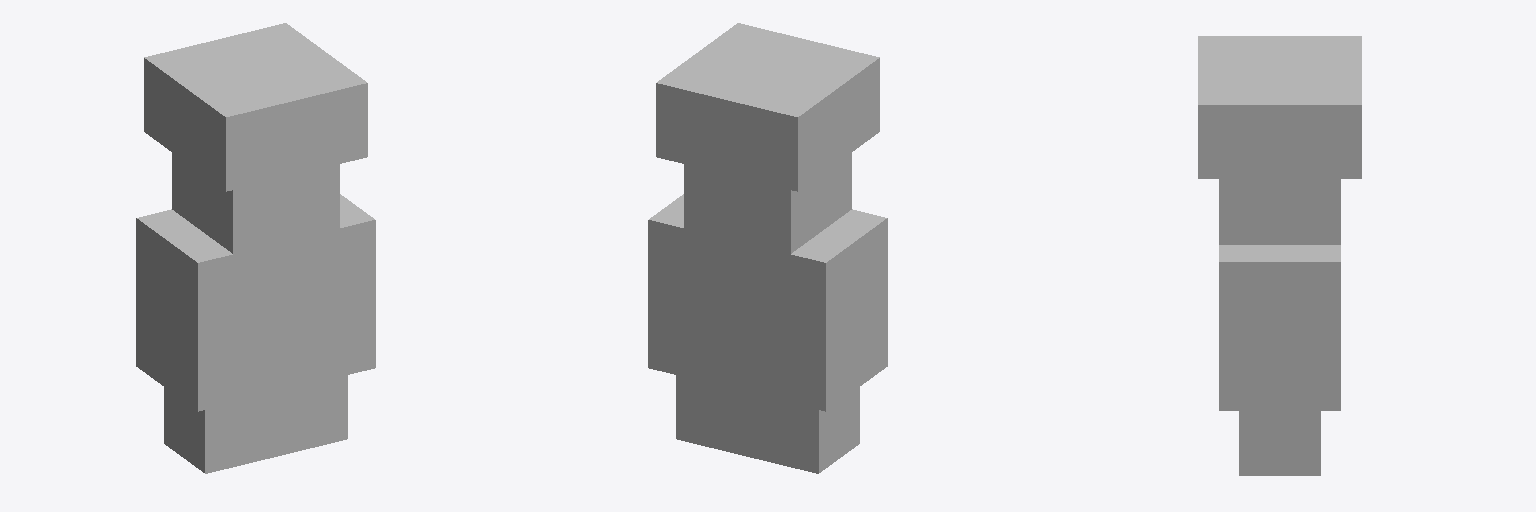
File: plumber.obj
The picture shows the model from 3 angles: view 1: azimuth 30°, elevation 25°; view 2: azimuth 150°, elevation 25°; view 3: azimuth 270°, elevation 25°; orthographic projection.
Visible parts, largest first — view 1: Body, Hat, Legs, Head; view 2: Body, Hat, Legs, Head; view 3: Hat, Body, Head, Legs.
Part boxes in pixels (bbox=[...]): Body: bbox=[136, 194, 375, 411]; Hat: bbox=[144, 23, 367, 191]; Legs: bbox=[164, 375, 347, 473]; Head: bbox=[172, 153, 339, 253]; Body: bbox=[648, 194, 887, 411]; Hat: bbox=[656, 23, 879, 191]; Legs: bbox=[676, 375, 859, 473]; Head: bbox=[684, 153, 851, 253]; Hat: bbox=[1198, 36, 1361, 178]; Body: bbox=[1219, 245, 1340, 410]; Head: bbox=[1219, 179, 1340, 244]; Legs: bbox=[1239, 411, 1320, 475].
Size of the model in its own units: 1 by 2 by 0.8.